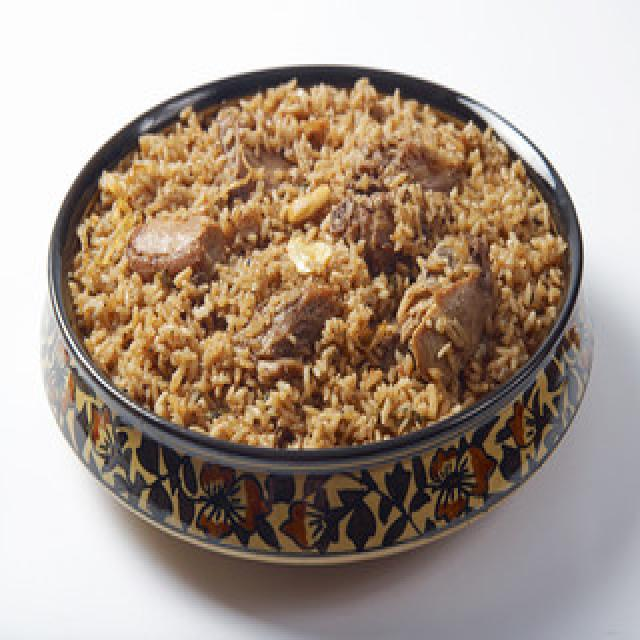BIRIYANI: (45, 66, 593, 537)
